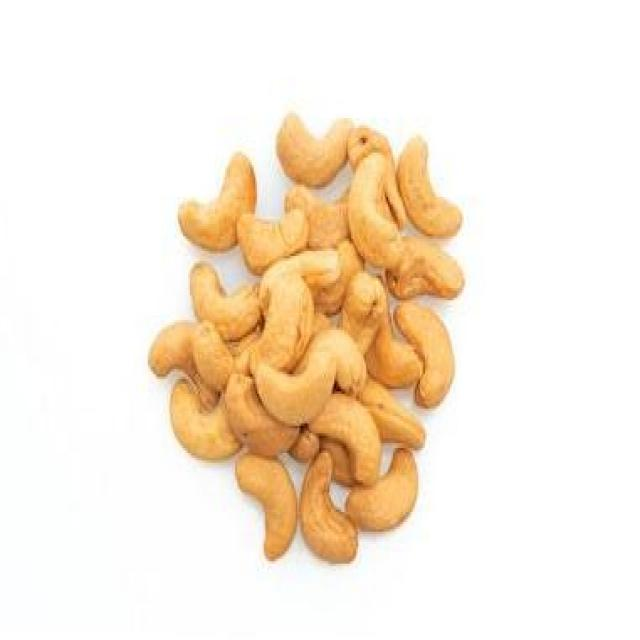cashew: (167, 142, 256, 235), (231, 439, 293, 558), (276, 93, 347, 189), (317, 393, 397, 475), (412, 285, 458, 426), (401, 132, 468, 226), (167, 380, 236, 468), (183, 261, 263, 333), (300, 451, 346, 575), (356, 145, 396, 273), (258, 275, 314, 362), (266, 364, 328, 426), (138, 312, 190, 369), (362, 478, 432, 519)
